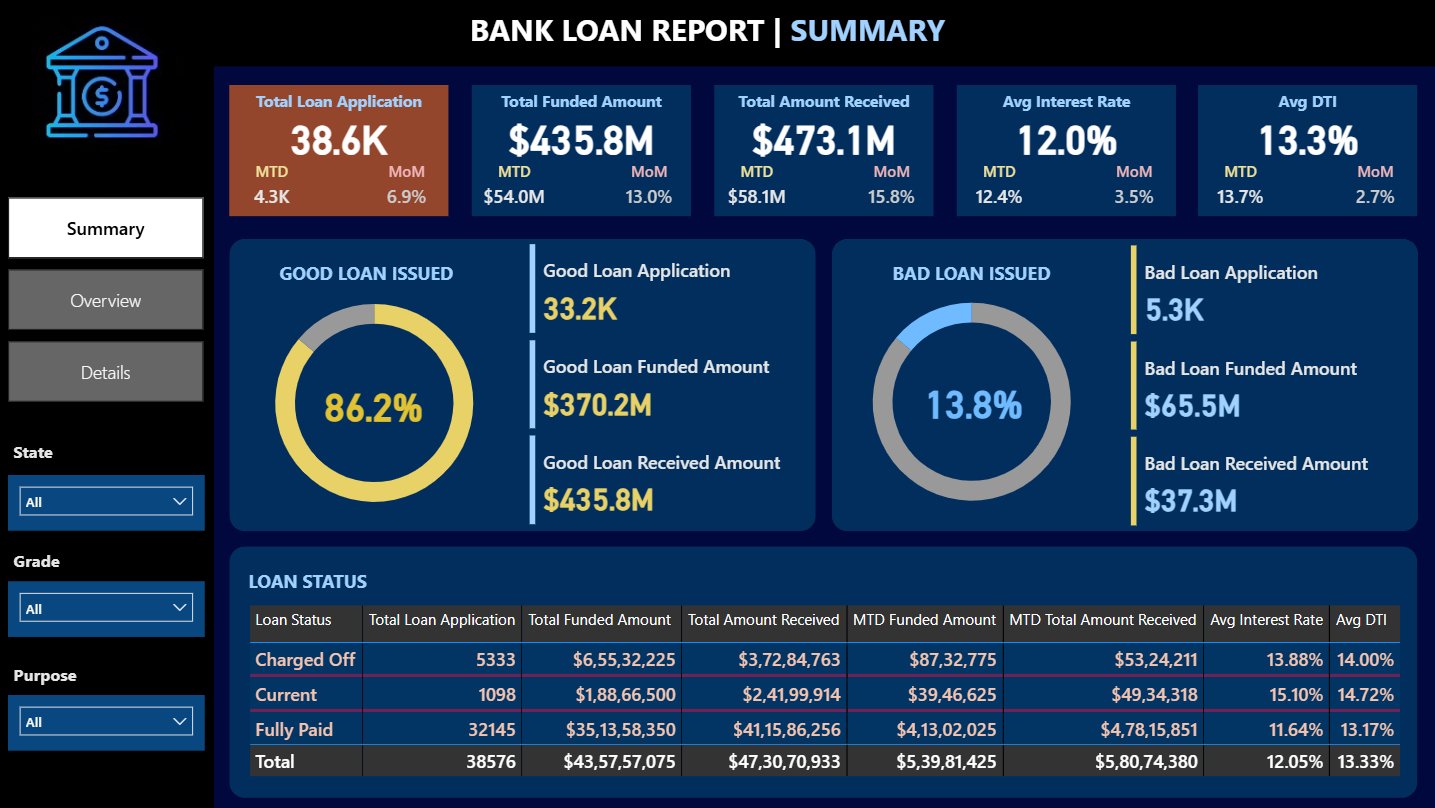

Layout of this report page (visuals, bound fields, positions):
{"tool":"powerbi","page":{"name":"Summary","canvas":[1280,720],"ordinal":0},"visuals":[{"type":"shape","box":[206.3,76,195.4,117],"z":0,"group":"g1"},{"type":"shape","box":[422,76,195.4,117],"z":0,"group":"g2"},{"type":"shape","box":[637.6,76,195.4,117],"z":0,"group":"g3"},{"type":"shape","box":[853.3,76,195.4,117],"z":0,"group":"g4"},{"type":"shape","box":[1068.9,76,195.4,117],"z":0,"group":"g5"},{"type":"shape","box":[206.3,212.3,522.4,260.6],"z":0},{"type":"card","fields":{"Values":["DAX Measures.Total Loan Application"]},"box":[206.3,92.9,195.4,59.1],"z":1000,"group":"g1"},{"type":"card","fields":{"Values":["DAX Measures.Total Funded Amount"]},"box":[422,92.9,195.4,59.1],"z":1000,"group":"g2"},{"type":"card","fields":{"Values":["DAX Measures.Total Amount Received"]},"box":[637.6,92.9,195.4,59.1],"z":1000,"group":"g3"},{"type":"card","fields":{"Values":["DAX Measures.Average Interest Rate"]},"box":[853.3,92.9,195.4,59.1],"z":1000,"group":"g4"},{"type":"card","fields":{"Values":["DAX Measures.Average DTI"]},"box":[1068.9,92.9,195.4,59.1],"z":1000,"group":"g5"},{"type":"donutChart","fields":{"Category":["bank_loan_data.Good v/s Bad Loan"],"Y":["DAX Measures.Total Loan Application"]},"box":[209.9,243.7,249.7,230.4],"z":1000},{"type":"shape","box":[0,0,1280,59.1],"z":2000},{"type":"textbox","box":[206.3,76,195.4,33.8],"z":2000,"group":"g1"},{"type":"textbox","box":[422,76,195.4,33.8],"z":2000,"group":"g2"},{"type":"textbox","box":[637.6,76,195.4,33.8],"z":2000,"group":"g3"},{"type":"textbox","box":[853.3,76,195.4,33.8],"z":2000,"group":"g4"},{"type":"textbox","box":[1068.9,76,195.4,33.8],"z":2000,"group":"g5"},{"type":"card","title":"MTD","fields":{"Values":["DAX Measures.MTD Loan Application"]},"box":[206.3,143.6,76,49.5],"z":3000,"group":"g1"},{"type":"card","title":"MTD","fields":{"Values":["DAX Measures.MTD Funded Amount"]},"box":[422,143.6,76,49.5],"z":3000,"group":"g2"},{"type":"card","title":"MTD","fields":{"Values":["DAX Measures.MTD Total Amount Received"]},"box":[637.6,143.6,76,49.5],"z":3000,"group":"g3"},{"type":"card","title":"MTD","fields":{"Values":["DAX Measures.MTD Avg Int Rate"]},"box":[853.3,143.6,76,49.5],"z":3000,"group":"g4"},{"type":"card","title":"MTD","fields":{"Values":["DAX Measures.MTD Avg DTI"]},"box":[1068.9,143.6,76,49.5],"z":3000,"group":"g5"},{"type":"textbox","box":[230.4,226.8,195.4,33.8],"z":3000},{"type":"shape","box":[0,59.1,192,661.1],"z":4000},{"type":"card","title":"MoM","fields":{"Values":["DAX Measures.MoM Loan Application"]},"box":[328.2,143.6,73.6,49.5],"z":4000,"group":"g1"},{"type":"card","title":"MoM","fields":{"Values":["DAX Measures.MoM Funded Amount"]},"box":[543.9,143.6,73.6,49.5],"z":4000,"group":"g2"},{"type":"card","title":"MoM","fields":{"Values":["DAX Measures.MoM Total Amount Received"]},"box":[759.5,143.6,73.6,49.5],"z":4000,"group":"g3"},{"type":"card","title":"MoM","fields":{"Values":["DAX Measures.MoM Avg Int Rate"]},"box":[975.2,143.6,73.6,49.5],"z":4000,"group":"g4"},{"type":"card","title":"MoM","fields":{"Values":["DAX Measures.MoM AVG DTI"]},"box":[1190.8,143.6,73.6,49.5],"z":4000,"group":"g5"},{"type":"card","fields":{"Values":["DAX Measures.Good Loan %"]},"box":[275.1,330.6,119.4,59.1],"z":5000},{"type":"textbox","box":[415,3.6,448.8,50.7],"z":6000},{"type":"group","id":"g1","title":"Group 1","box":[206.3,76,195.4,117],"z":7000},{"type":"group","id":"g2","title":"Group 1","box":[422,76,195.4,117],"z":8000},{"type":"group","id":"g3","title":"Group 1","box":[637.6,76,195.4,117],"z":9000},{"type":"group","id":"g4","title":"Group 1","box":[853.3,76,195.4,117],"z":10000},{"type":"group","id":"g5","title":"Group 1","box":[1068.9,76,195.4,117],"z":11000},{"type":"shape","box":[742,212.3,522.4,260.6],"z":12000},{"type":"cardVisual","fields":{"Data":["DAX Measures.Good Loan Application","DAX Measures.Good Loan Funded Amount","DAX Measures.Good Loan Received Amount"]},"box":[468.1,212.3,260.6,261.8],"z":13000},{"type":"donutChart","fields":{"Category":["bank_loan_data.Good v/s Bad Loan"],"Y":["DAX Measures.Total Loan Application"]},"box":[742,242.5,249.7,230.4],"z":14000},{"type":"shape","box":[0,58.9,192,661.1],"z":15000},{"type":"shape","box":[206.3,486.2,1058,224.4],"z":16000},{"type":"cardVisual","fields":{"Data":["DAX Measures.Bad Loan Application","DAX Measures.Bad Loan Funded Amount","DAX Measures.Bad Loan Received Amount"]},"box":[1003.8,213.5,260.6,261.8],"z":17000},{"type":"textbox","box":[769.7,226.8,195.4,33.8],"z":18000},{"type":"card","fields":{"Values":["DAX Measures.Bad Loan %"]},"box":[809.5,328.2,119.4,59.1],"z":19000},{"type":"tableEx","fields":{"Values":["bank_loan_data.loan_status","DAX Measures.Total Loan Application","DAX Measures.Total Funded Amount","DAX Measures.Total Amount Received","DAX Measures.MTD Funded Amount","DAX Measures.MTD Total Amount Received","DAX Measures.Average Interest Rate","DAX Measures.Average DTI"]},"box":[218.4,534.5,1037.5,167.7],"z":20000},{"type":"textbox","box":[218.4,500.7,187,33.8],"z":21000},{"type":"slicer","fields":{"Values":["bank_loan_data.address_state"]},"box":[8.4,423.5,174.9,49.5],"z":22000},{"type":"textbox","box":[8.4,387.3,88.1,33.8],"z":23000},{"type":"slicer","fields":{"Values":["bank_loan_data.grade"]},"box":[8.4,517.6,174.9,49.5],"z":24000},{"type":"textbox","box":[8.4,483.8,88.1,33.8],"z":25000},{"type":"slicer","fields":{"Values":["bank_loan_data.purpose"]},"box":[8.4,618.9,174.9,49.5],"z":26000},{"type":"textbox","box":[8.4,585.1,88.1,33.8],"z":27000},{"type":"pageNavigator","box":[8.4,176.1,174.9,184.6],"z":27001},{"type":"image","box":[0,0,183.4,143.6],"z":27002}]}

Visuals, with their boxes in screenshot pixels (x1, y1, x2, y2), scaled from the page's 1280x720 canvas onto the 1435x808 screenshot:
shape: select_region(231, 85, 450, 217)
shape: select_region(473, 85, 692, 217)
shape: select_region(715, 85, 934, 217)
shape: select_region(957, 85, 1176, 217)
shape: select_region(1198, 85, 1417, 217)
shape: select_region(231, 238, 817, 531)
card - DAX Measures.Total Loan Application: select_region(231, 104, 450, 171)
card - DAX Measures.Total Funded Amount: select_region(473, 104, 692, 171)
card - DAX Measures.Total Amount Received: select_region(715, 104, 934, 171)
card - DAX Measures.Average Interest Rate: select_region(957, 104, 1176, 171)
card - DAX Measures.Average DTI: select_region(1198, 104, 1417, 171)
donutChart - bank_loan_data.Good v/s Bad Loan x DAX Measures.Total Loan Application: select_region(235, 273, 515, 532)
shape: select_region(0, 0, 1434, 66)
textbox: select_region(231, 85, 450, 123)
textbox: select_region(473, 85, 692, 123)
textbox: select_region(715, 85, 934, 123)
textbox: select_region(957, 85, 1176, 123)
textbox: select_region(1198, 85, 1417, 123)
"MTD" card: select_region(231, 161, 316, 217)
"MTD" card: select_region(473, 161, 558, 217)
"MTD" card: select_region(715, 161, 800, 217)
"MTD" card: select_region(957, 161, 1042, 217)
"MTD" card: select_region(1198, 161, 1284, 217)
textbox: select_region(258, 255, 477, 292)
shape: select_region(0, 66, 215, 807)
"MoM" card: select_region(368, 161, 450, 217)
"MoM" card: select_region(610, 161, 692, 217)
"MoM" card: select_region(851, 161, 934, 217)
"MoM" card: select_region(1093, 161, 1176, 217)
"MoM" card: select_region(1335, 161, 1418, 217)
card - DAX Measures.Good Loan %: select_region(308, 371, 442, 437)
textbox: select_region(465, 4, 968, 61)
"Group 1" group: select_region(231, 85, 450, 217)
"Group 1" group: select_region(473, 85, 692, 217)
"Group 1" group: select_region(715, 85, 934, 217)
"Group 1" group: select_region(957, 85, 1176, 217)
"Group 1" group: select_region(1198, 85, 1417, 217)
shape: select_region(832, 238, 1418, 531)
cardVisual - DAX Measures.Good Loan Application x DAX Measures.Good Loan Funded Amount: select_region(525, 238, 817, 532)
donutChart - bank_loan_data.Good v/s Bad Loan x DAX Measures.Total Loan Application: select_region(832, 272, 1112, 531)
shape: select_region(0, 66, 215, 807)
shape: select_region(231, 546, 1417, 797)
cardVisual - DAX Measures.Bad Loan Application x DAX Measures.Bad Loan Funded Amount: select_region(1125, 240, 1418, 533)
textbox: select_region(863, 255, 1082, 292)
card - DAX Measures.Bad Loan %: select_region(908, 368, 1041, 435)
tableEx - bank_loan_data.loan_status x DAX Measures.Total Loan Application: select_region(245, 600, 1408, 788)
textbox: select_region(245, 562, 454, 600)
slicer - bank_loan_data.address_state: select_region(9, 475, 205, 531)
textbox: select_region(9, 435, 108, 473)
slicer - bank_loan_data.grade: select_region(9, 581, 205, 636)
textbox: select_region(9, 543, 108, 581)
slicer - bank_loan_data.purpose: select_region(9, 695, 205, 750)
textbox: select_region(9, 657, 108, 695)
pageNavigator: select_region(9, 198, 205, 405)
image: select_region(0, 0, 206, 161)
